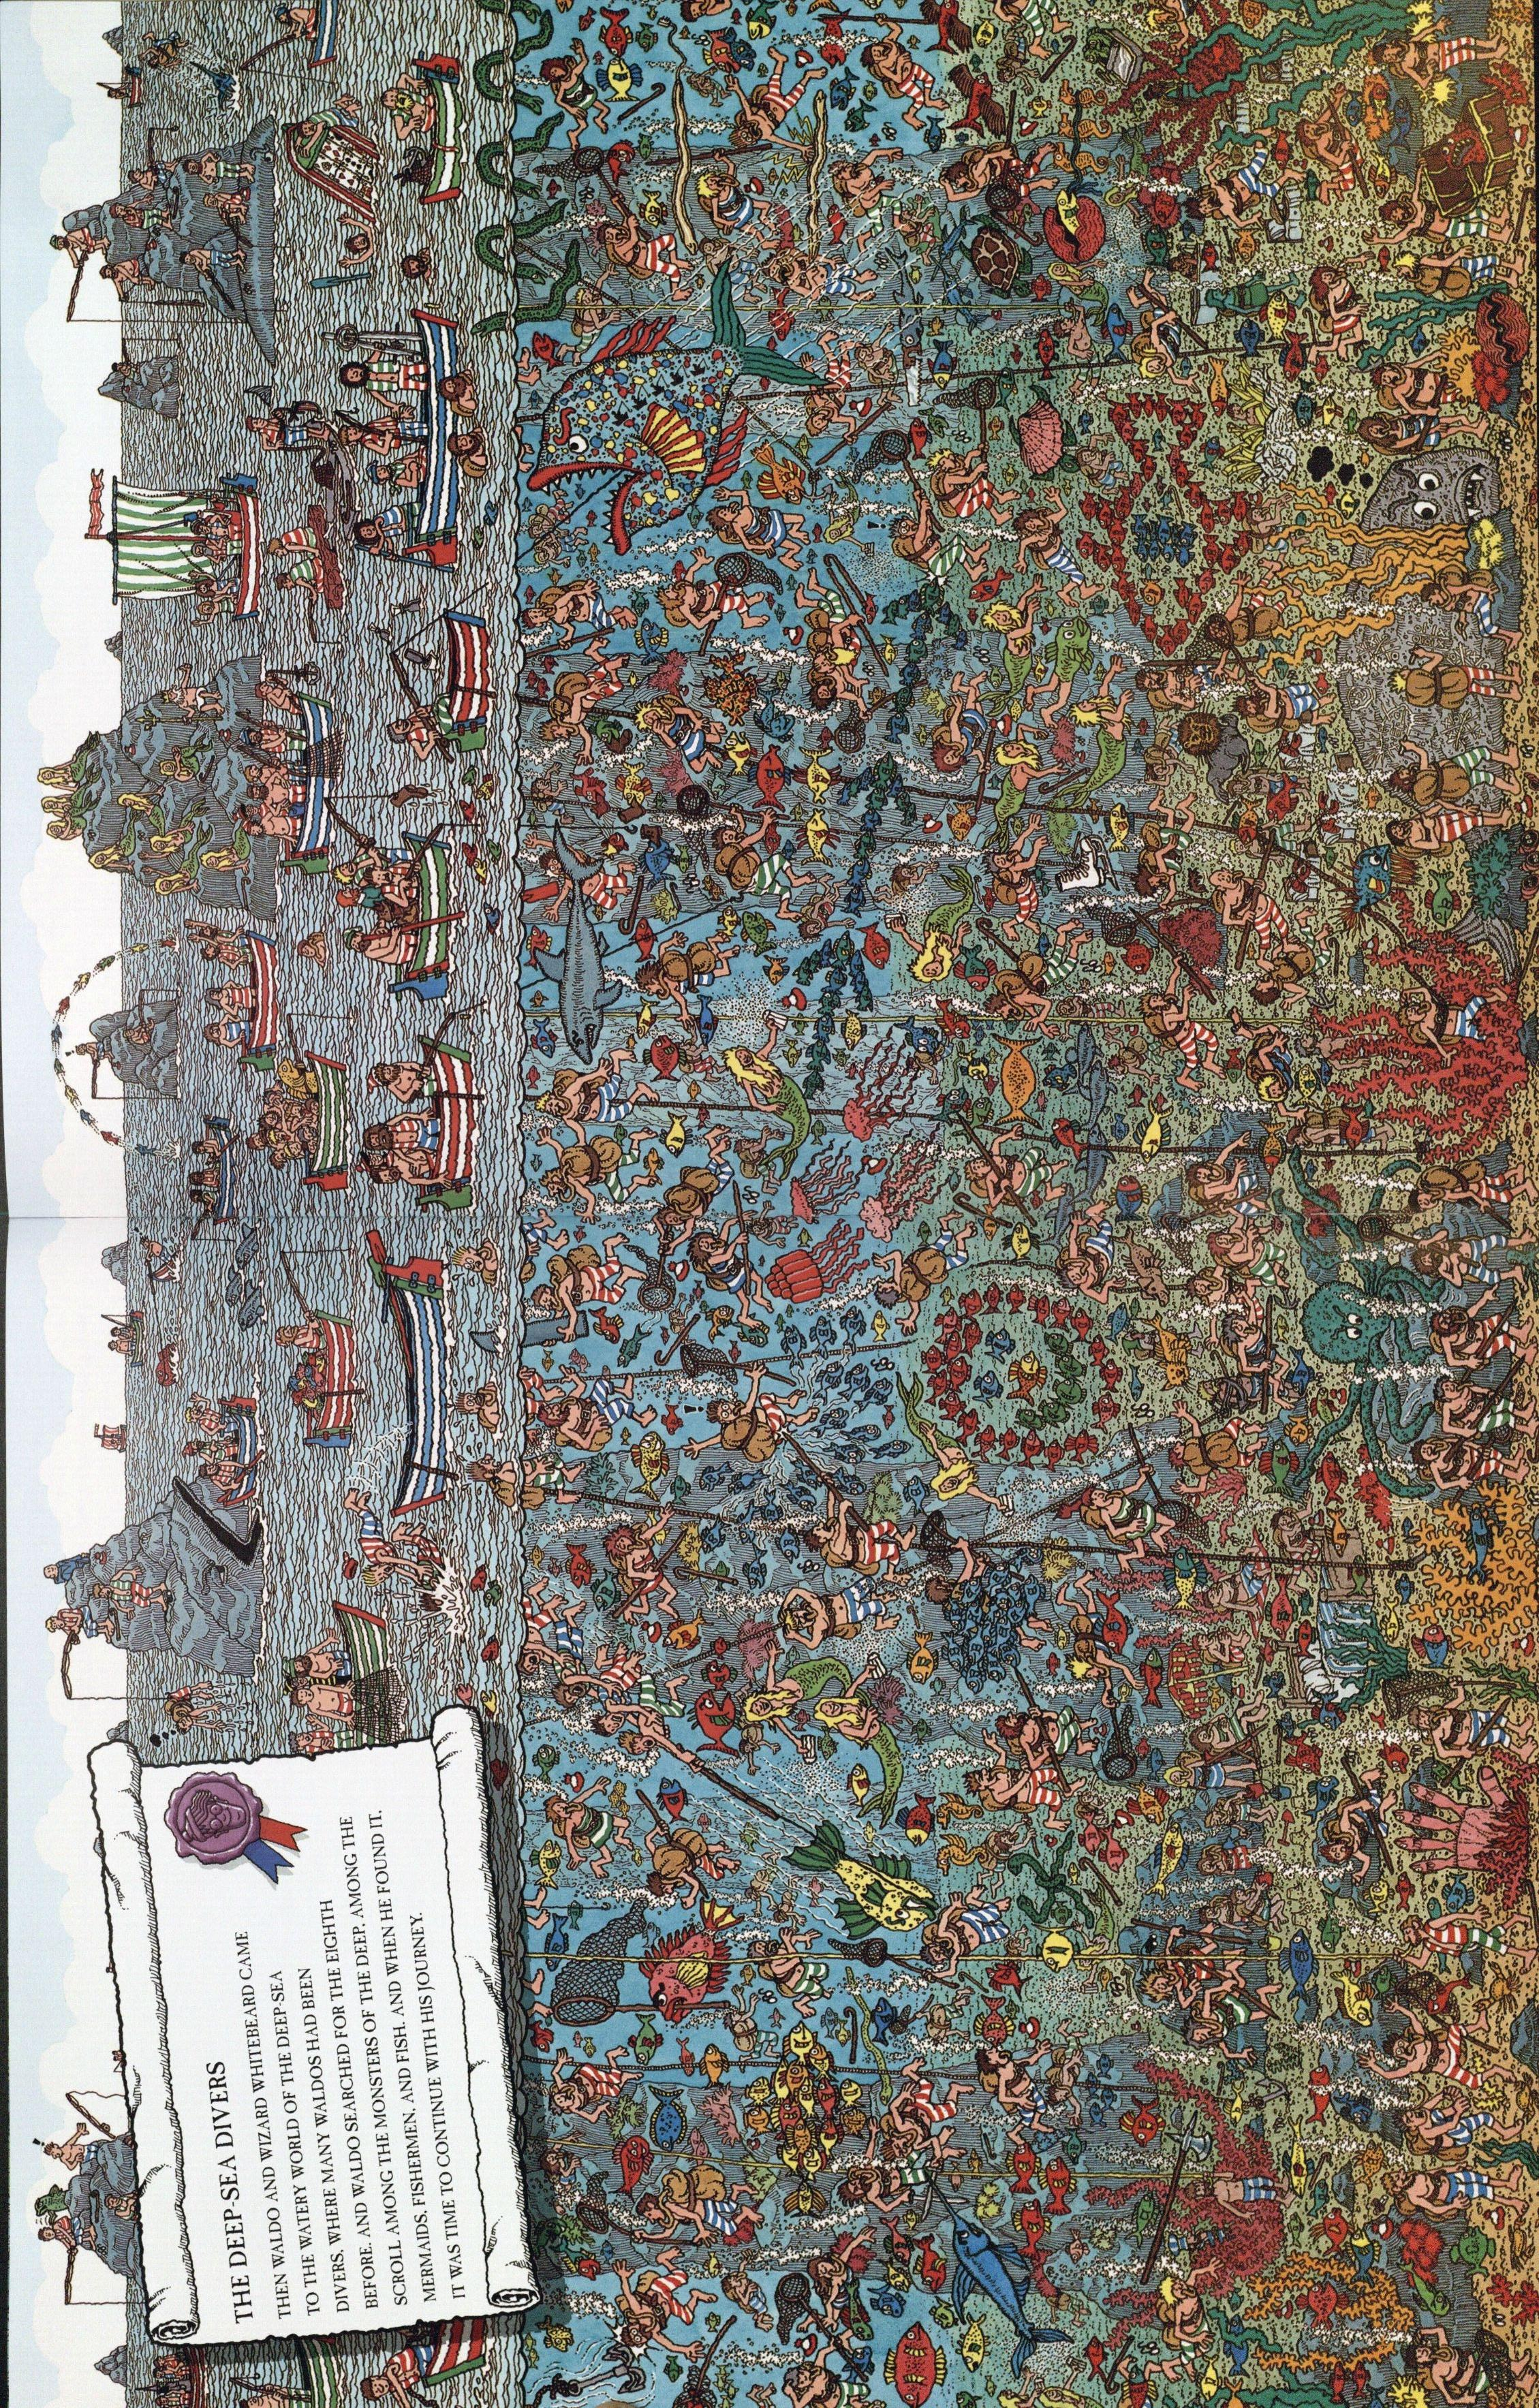waldos: (230, 800, 270, 821)
